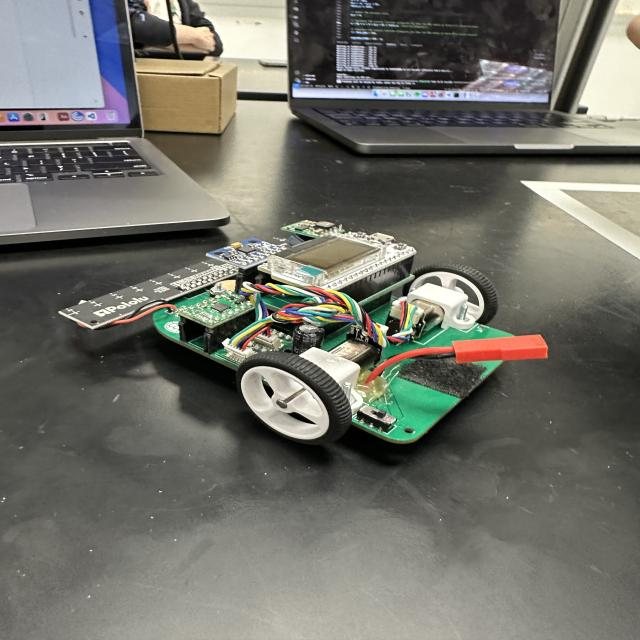robot: (58, 218, 550, 447)
